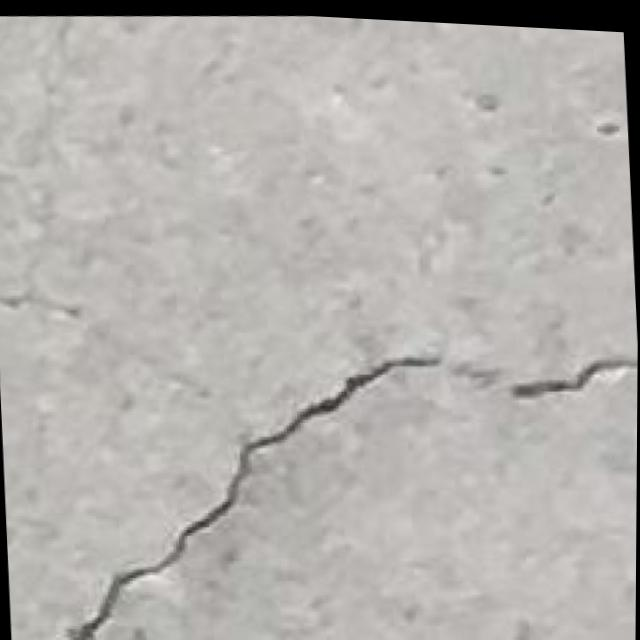Crack: (38, 301, 638, 640)
